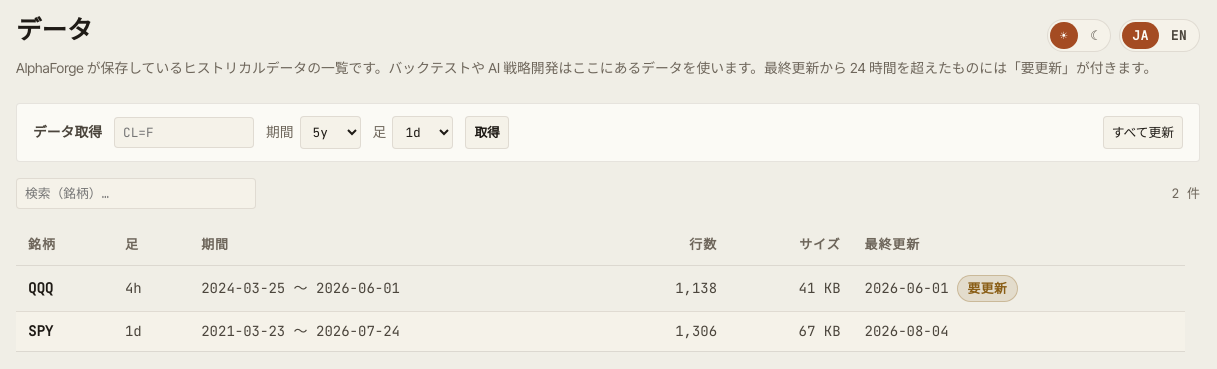
DataPage (issue #484) › 言語切替（SettingsToggles）を備え、英語表示に切り替えられる
Expected: the text "SPY" is shown, [16,311,113,351]
What coordinates should you click on to do the following:
click the radio button with aria-label "English"
I would click on:
 (1179, 35)
Its box is [1161,22,1197,49].
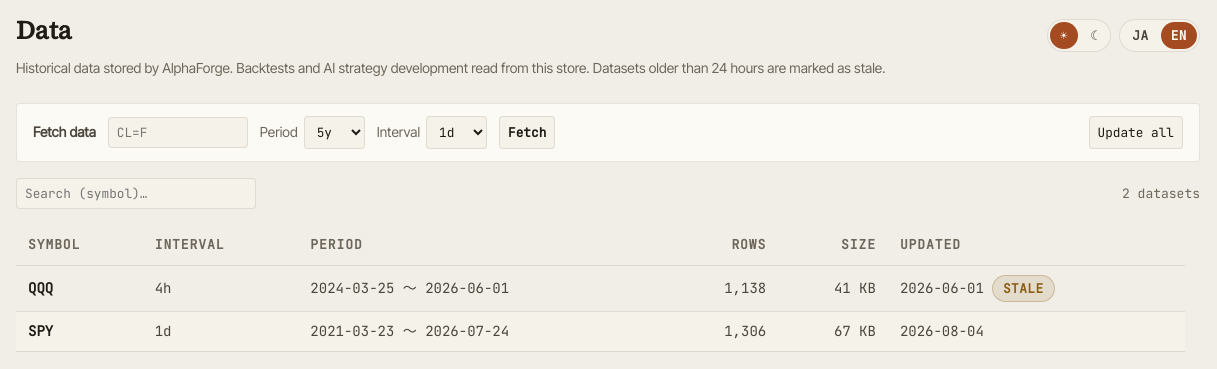
Result: the text "2 datasets" is shown at [1122,184,1200,203]
